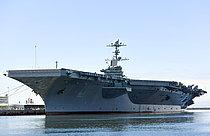MIL_Ship: (6, 37, 207, 117)
